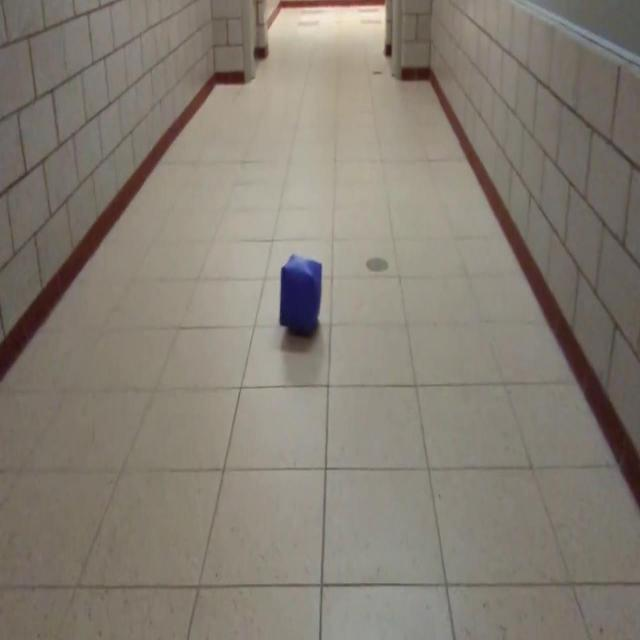frc_cube: (278, 252, 324, 338)
